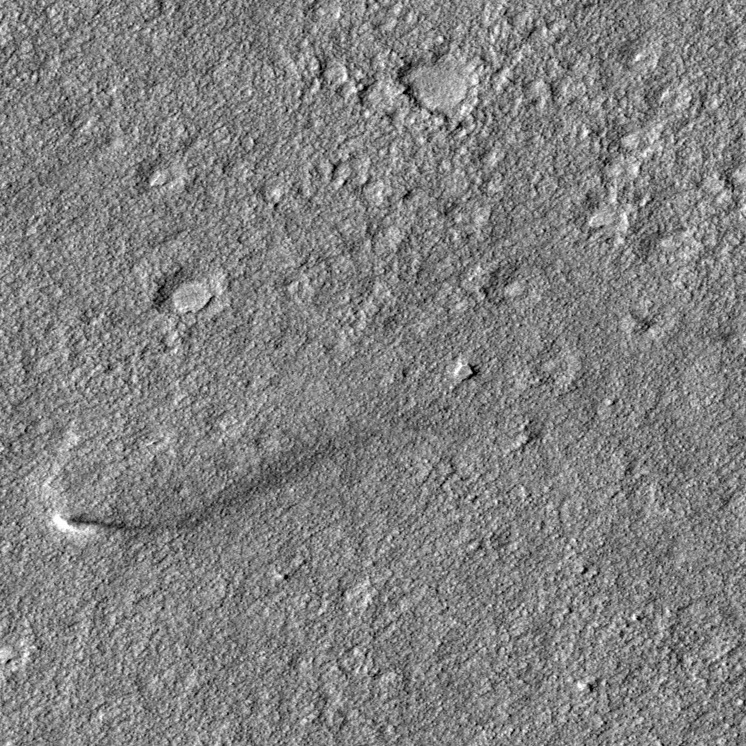dust_devil: (50, 512, 139, 537)
